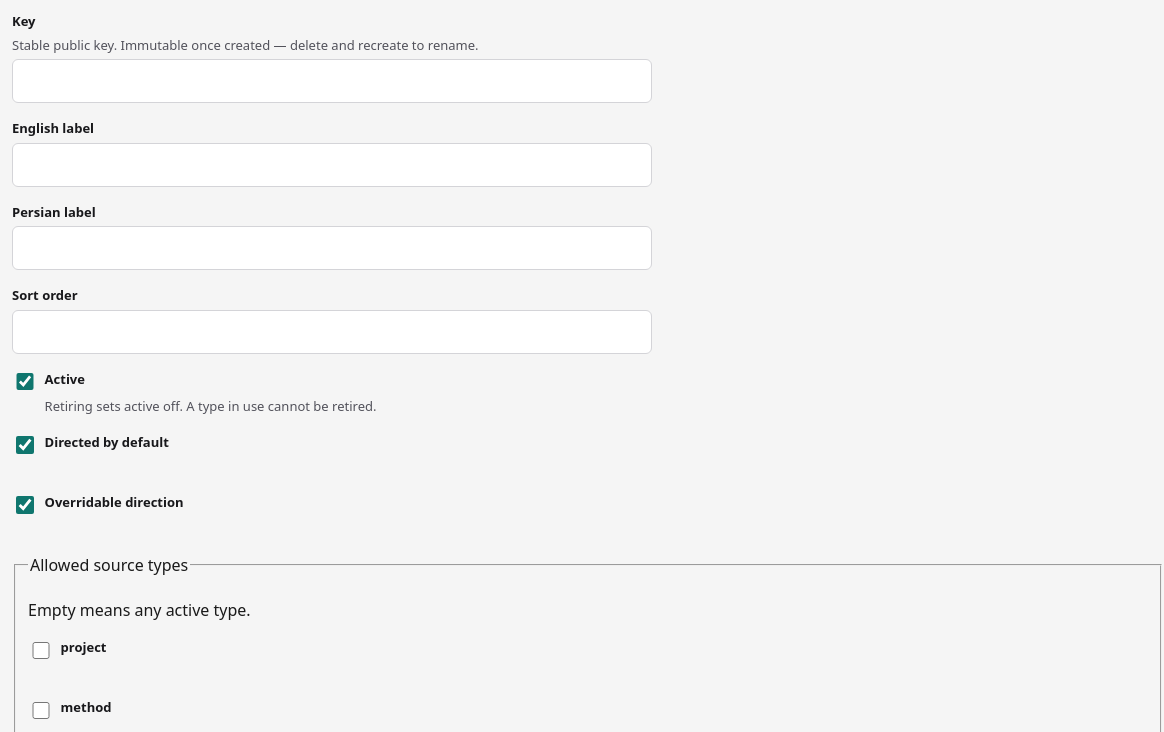
it: RelationTypeForm (Plan B Task 13) › states the fixed-direction rule when direction is not overridable
Click the checkbox labelled "Overridable direction". click: (25, 505)
box: left=16, top=496, right=34, bottom=514
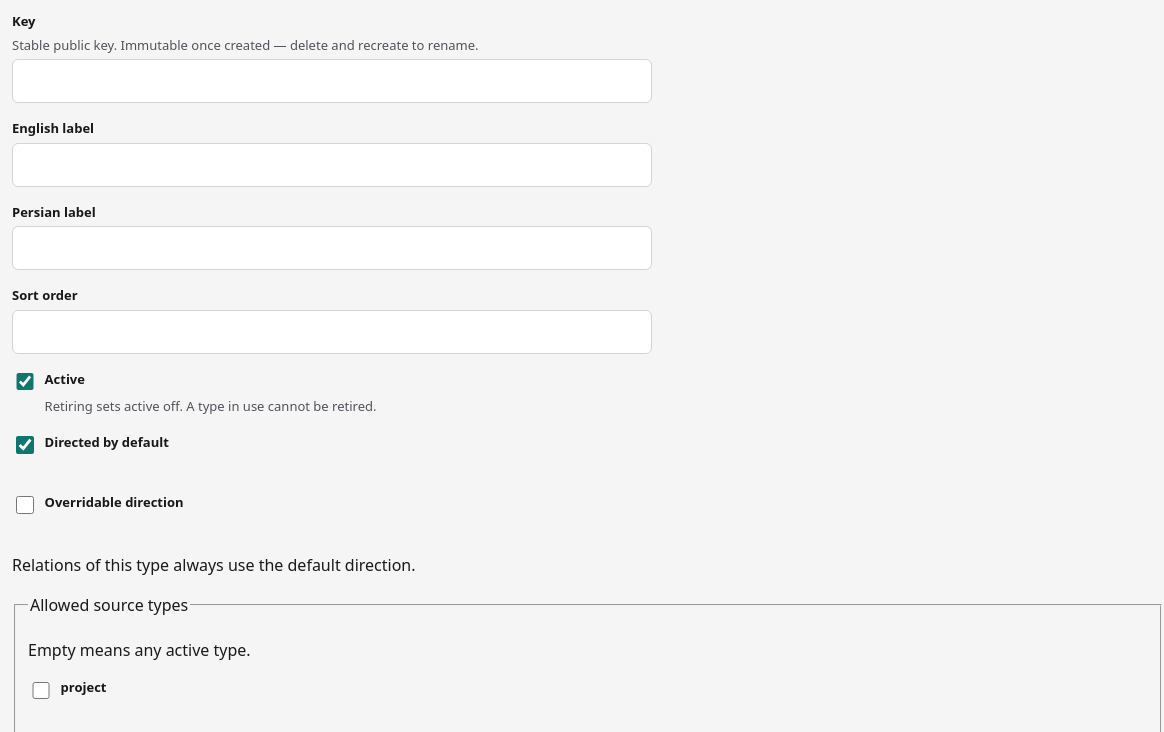
Result: the text "Relations of this type always use the default direction." is shown at left=12, top=554, right=416, bottom=576
